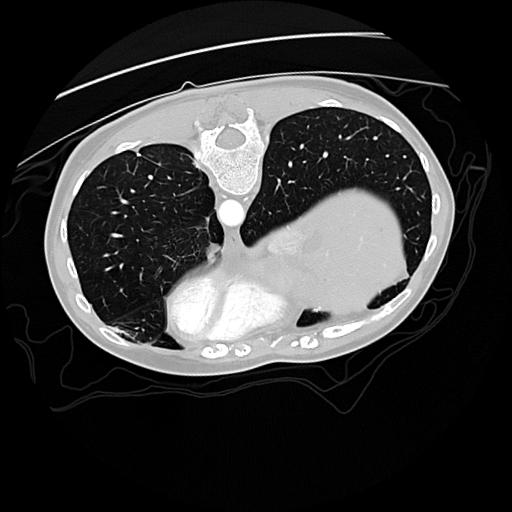nodule: (204, 244, 224, 264)
